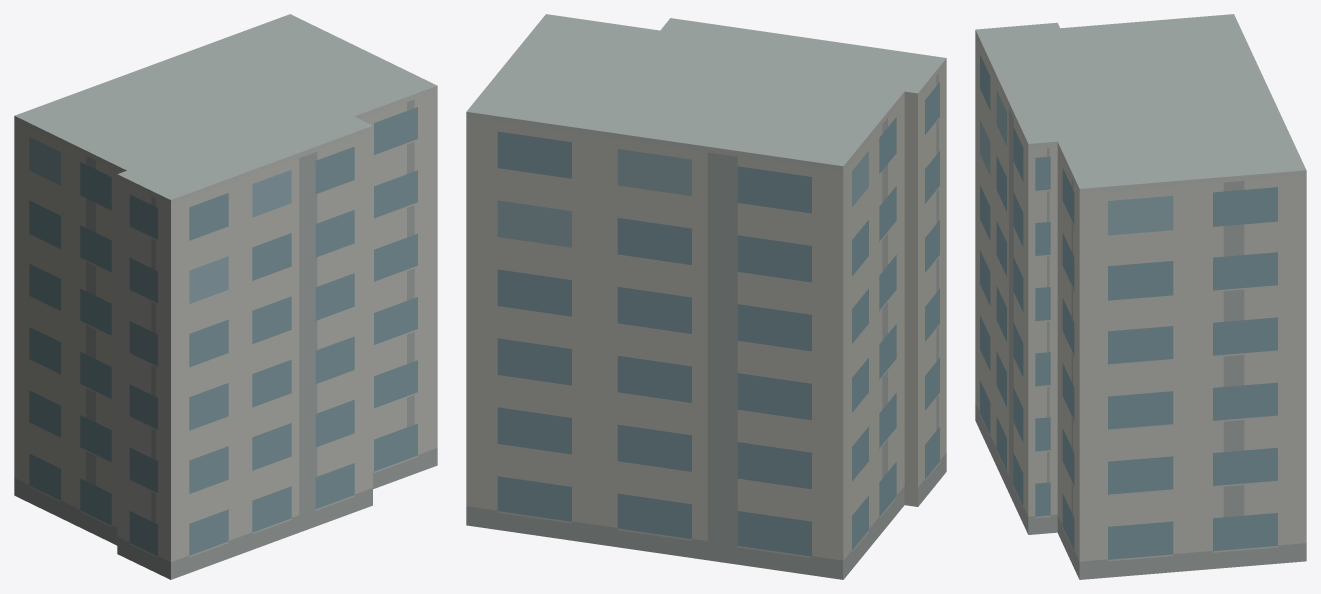
Rendered from survey-upis-32781431.glb.
3 renders of one model, left to right at view 1: azimuth 30°, elevation 25°; view 2: azimuth 150°, elevation 25°; view 3: azimuth 270°, elevation 25°, orthographic. The views are drawn at different scales.
Visible parts, largest first — view 1: survey-upis-32781431.tmp; view 2: survey-upis-32781431.tmp; view 3: survey-upis-32781431.tmp.
Boxes of the visible parts, x1,y1,x2,y2 form: survey-upis-32781431.tmp: (14,14,437,579); survey-upis-32781431.tmp: (466,14,946,579); survey-upis-32781431.tmp: (975,14,1306,579).
Size of the model in its own units: 16.65 by 17.35 by 13.33.
